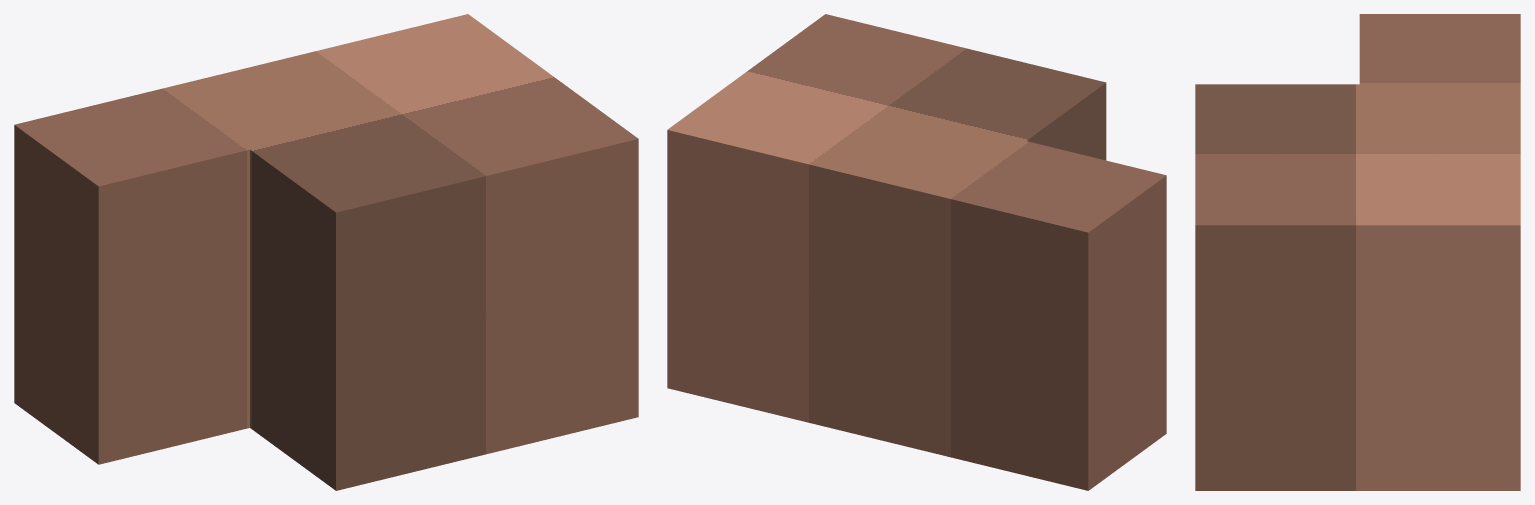
Rendered from garbage_415x27.gltf.
The picture shows the model from 3 angles, left to right: view 1: azimuth 30°, elevation 25°; view 2: azimuth 150°, elevation 25°; view 3: azimuth 270°, elevation 25°; orthographic projection. The views are drawn at different scales.
Visible parts, largest first — view 1: garbage_415x27; view 2: garbage_415x27; view 3: garbage_415x27.
Part boxes in pixels (left/top/right/bottom): garbage_415x27: left=14, top=14, right=638, bottom=490; garbage_415x27: left=667, top=14, right=1166, bottom=490; garbage_415x27: left=1195, top=14, right=1520, bottom=490.
Size of the model in its own units: 0.1832 by 0.1074 by 0.1193.
1 material, 1 textured.
